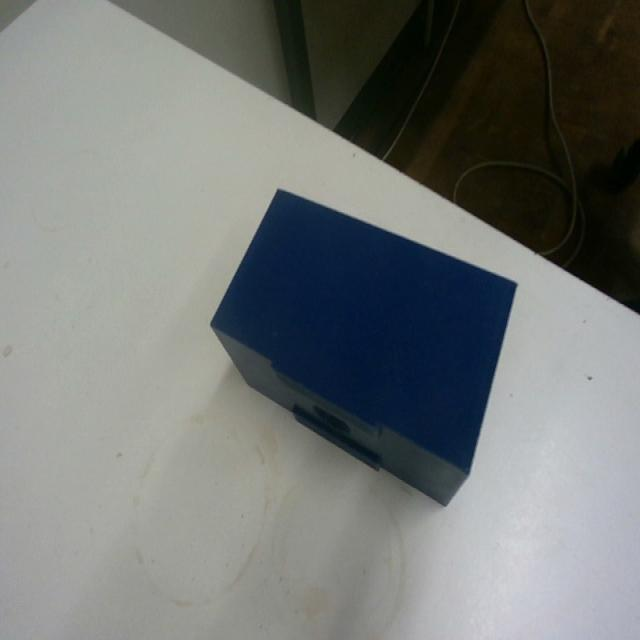Blue Cuboid: (208, 183, 519, 508)
